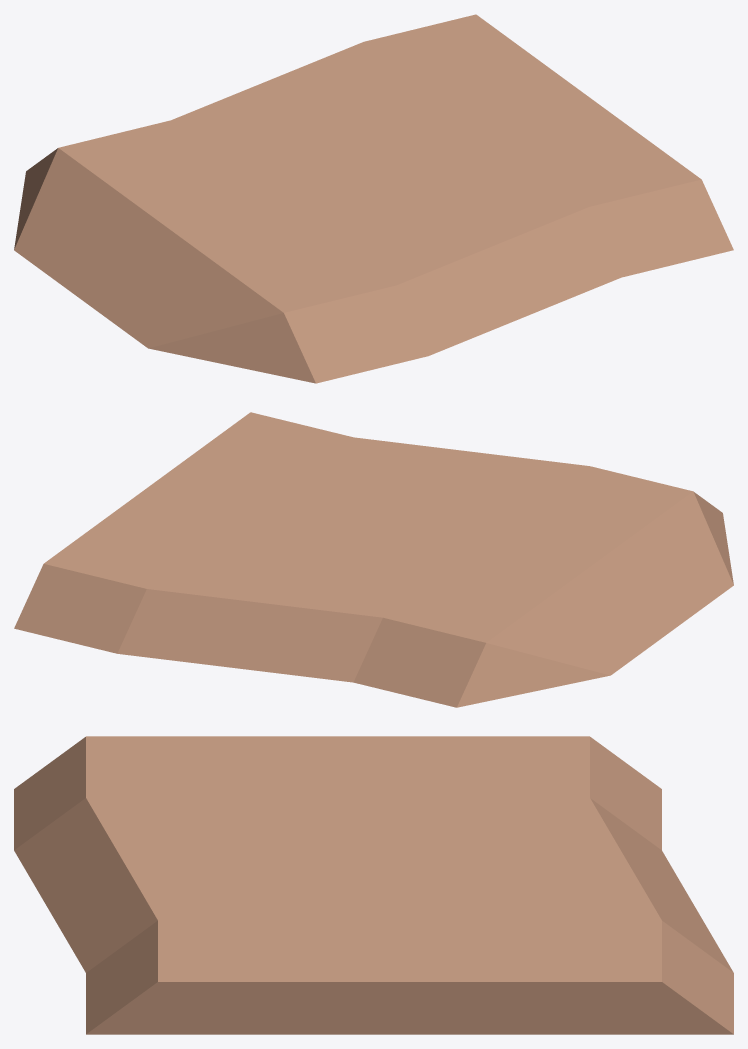
The model's file is crops_dirtRowEnd.glb.
3 views of the same model, one above another, from view 1: azimuth 30°, elevation 25°; view 2: azimuth 150°, elevation 25°; view 3: azimuth 270°, elevation 25° (orthographic). The views are drawn at different scales.
Parts seen in each view (by area): view 1: crops_dirtRowEnd; view 2: crops_dirtRowEnd; view 3: crops_dirtRowEnd.
Boxes of the visible parts, box(x1,y1,x2,y2) form: crops_dirtRowEnd: box(14, 14, 733, 383); crops_dirtRowEnd: box(14, 412, 733, 707); crops_dirtRowEnd: box(14, 736, 733, 1034).
Size of the model in its own units: 0.6 by 0.05 by 0.62.
